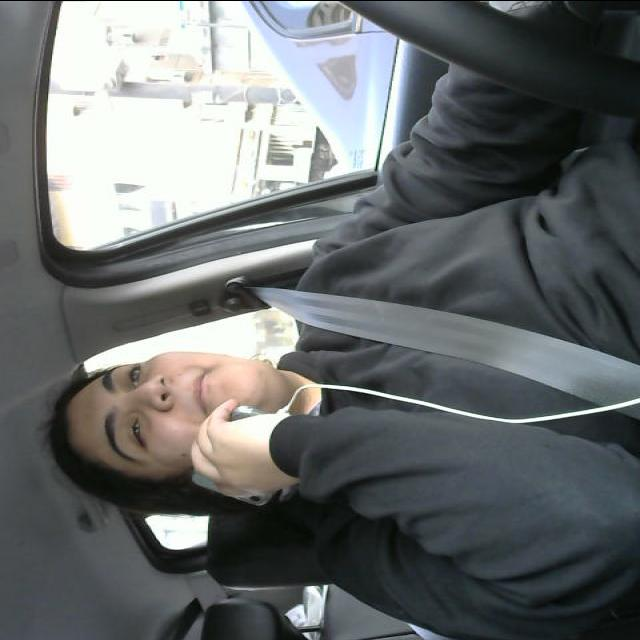mobile use: (189, 398, 295, 506)
